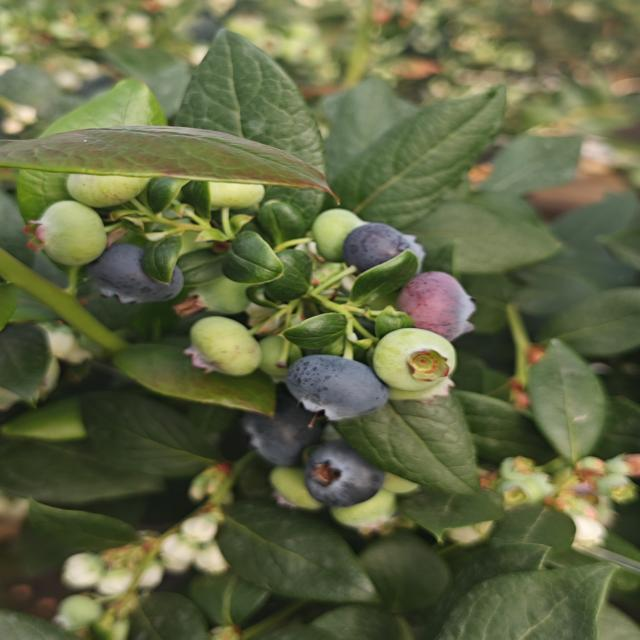ripe: (281, 352, 391, 426), (232, 399, 327, 471), (85, 240, 187, 307), (300, 438, 387, 510), (397, 270, 476, 340), (340, 221, 412, 275)
